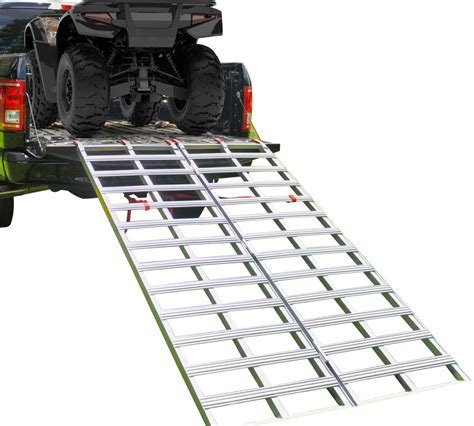Yard Ramp: (75, 141, 468, 420)
